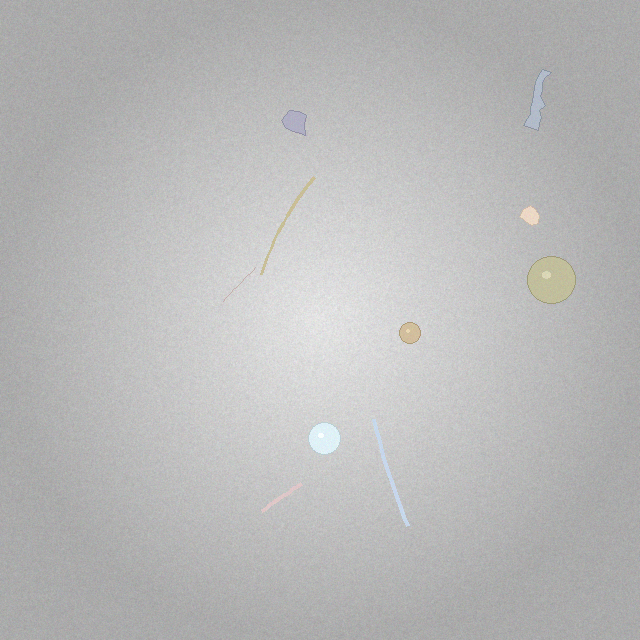fiber: (258, 174, 318, 278), (369, 415, 412, 530), (258, 480, 306, 516), (221, 266, 258, 303)
film: (524, 70, 551, 130)
fragment: (281, 110, 307, 135), (519, 205, 540, 226)
pellet: (527, 256, 575, 304), (309, 423, 341, 455), (400, 323, 420, 343)
